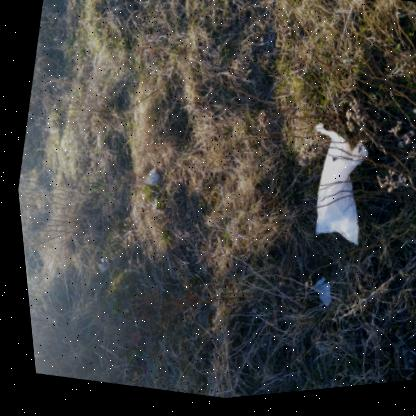Plastic: (310, 129, 363, 252), (304, 284, 324, 313), (134, 171, 155, 190), (92, 257, 102, 275)
